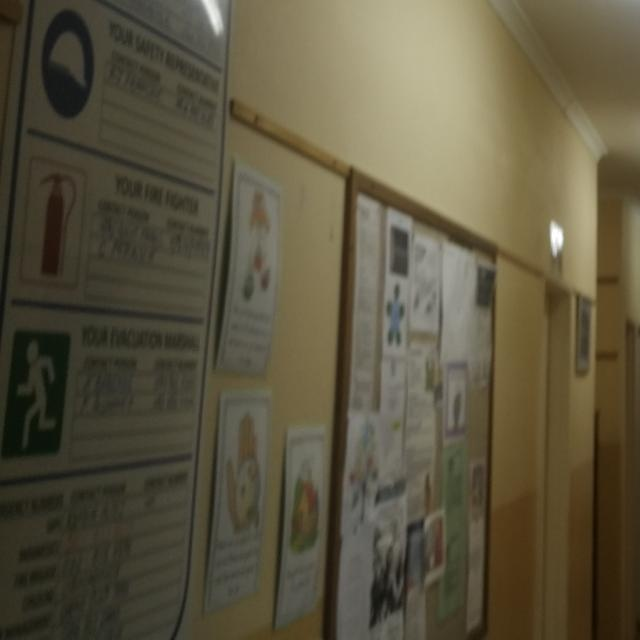fluorescent tube: (600, 0, 640, 46)
